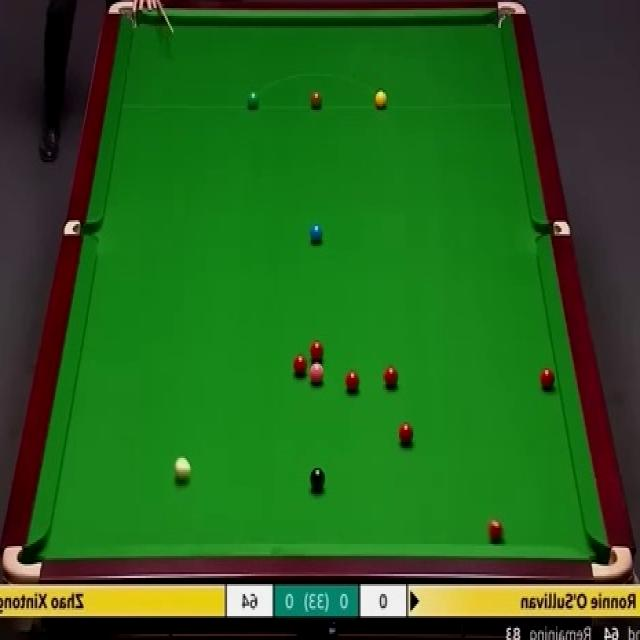black-ball: (309, 466, 325, 493)
blue-ball: (309, 224, 322, 247)
brown-ball: (310, 93, 322, 110)
green-ball: (247, 90, 258, 110)
pink-ball: (309, 361, 326, 387)
red-ball: (538, 366, 556, 392), (487, 518, 504, 544), (308, 337, 325, 362), (293, 350, 308, 376), (399, 422, 415, 446), (384, 366, 399, 390), (346, 372, 361, 392)
white-ball: (173, 454, 191, 482)
yellow-ball: (373, 89, 388, 110)
